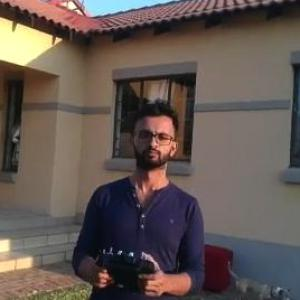follow: (63, 94, 212, 299)
null: (215, 260, 290, 299)
